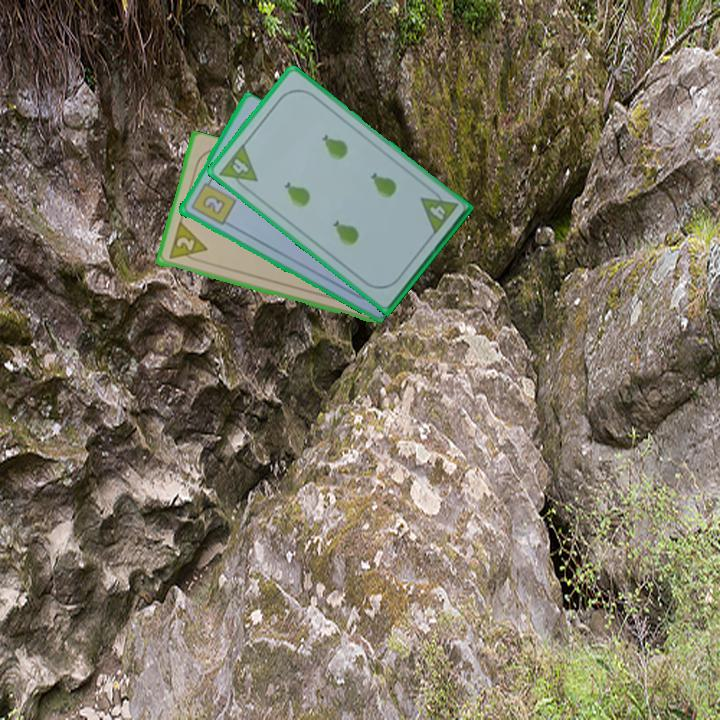2b: (187, 175, 238, 228)
2p: (165, 220, 210, 266)
4p: (215, 140, 260, 195), (417, 184, 461, 237)
